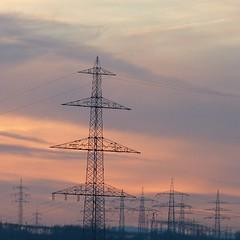power_tower: (48, 52, 136, 236), (153, 176, 187, 239), (200, 189, 231, 240), (10, 174, 37, 230)
